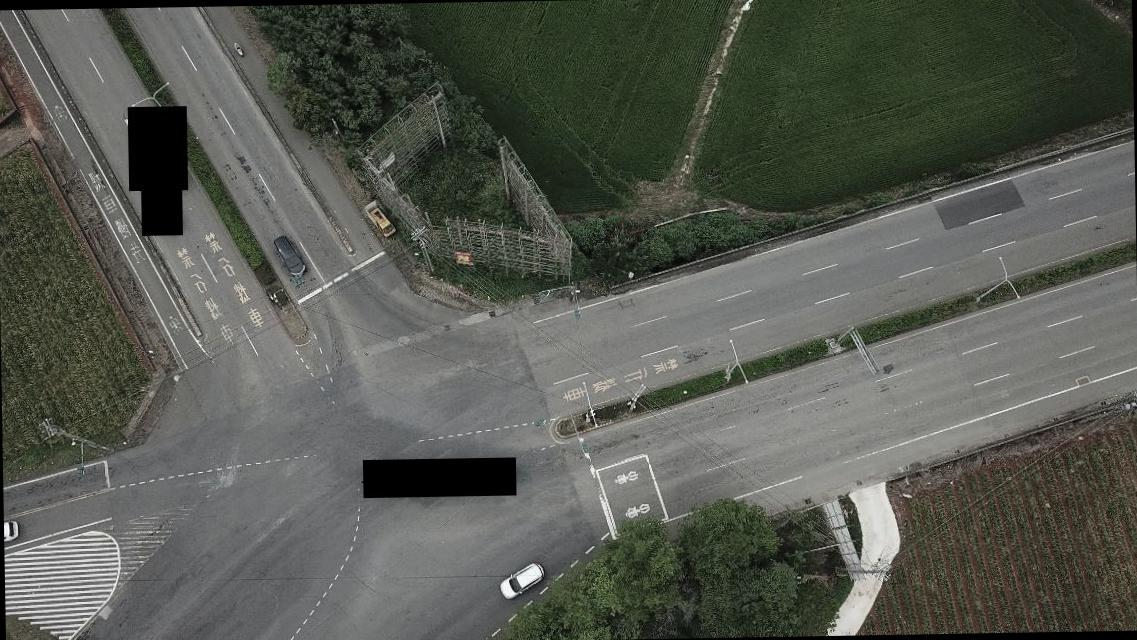vehicle: (499, 560, 548, 600), (274, 232, 306, 278), (370, 206, 396, 237)
